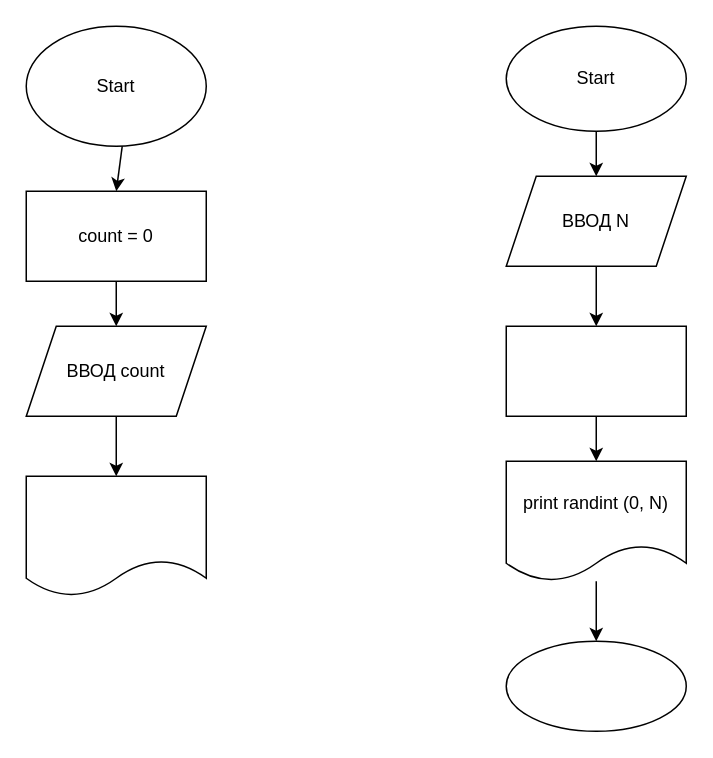
This 713x758 diagram has some shape labels left out. Each missing label, with the centre of its shape:
"End" belongs at point (595, 685).
"import random r = randint (1, N)" belongs at point (595, 370).
"ВЫВОД count" belongs at point (115, 535).
